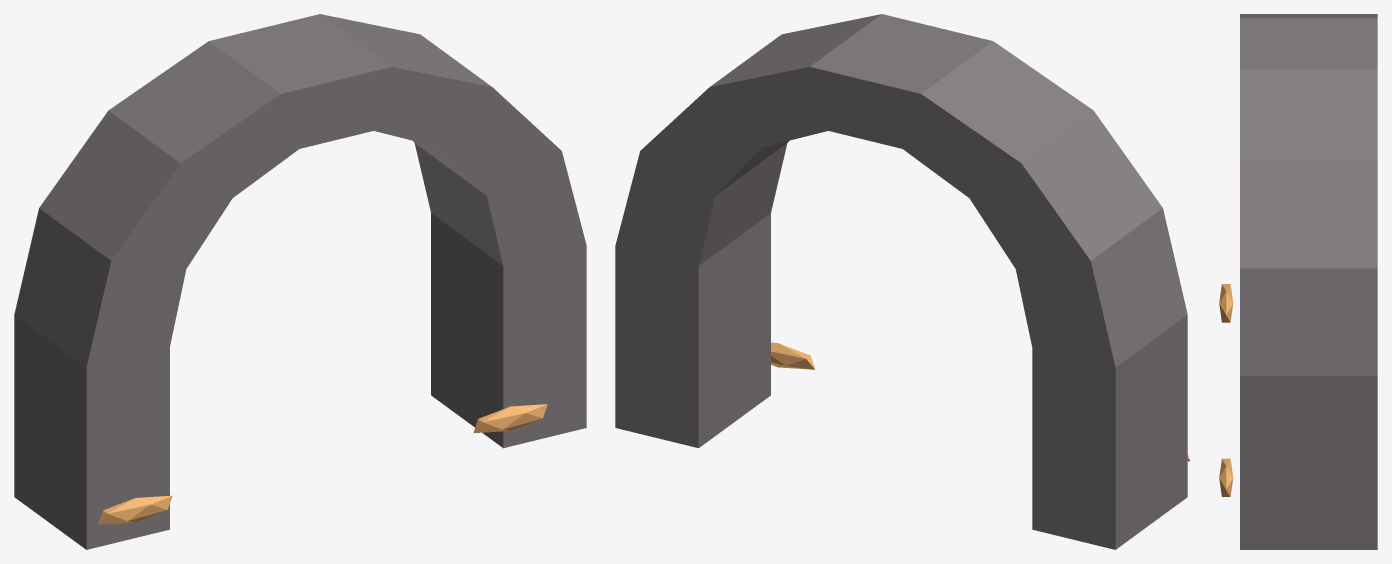
File: black_beach_arch_near-DRwSuRY8.glb
3 renders of one model, left to right at view 1: azimuth 30°, elevation 25°; view 2: azimuth 150°, elevation 25°; view 3: azimuth 270°, elevation 25°, orthographic. The views are drawn at different scales.
Visible parts, largest first — view 1: black_beach_arch_near; view 2: black_beach_arch_near; view 3: black_beach_arch_near.
Part boxes in pixels (<box>): black_beach_arch_near: <box>14,14,586,549</box>; black_beach_arch_near: <box>615,14,1190,549</box>; black_beach_arch_near: <box>1219,14,1377,549</box>.
Bounding box in the file's own units: 12 × 9.37 × 3.45.
